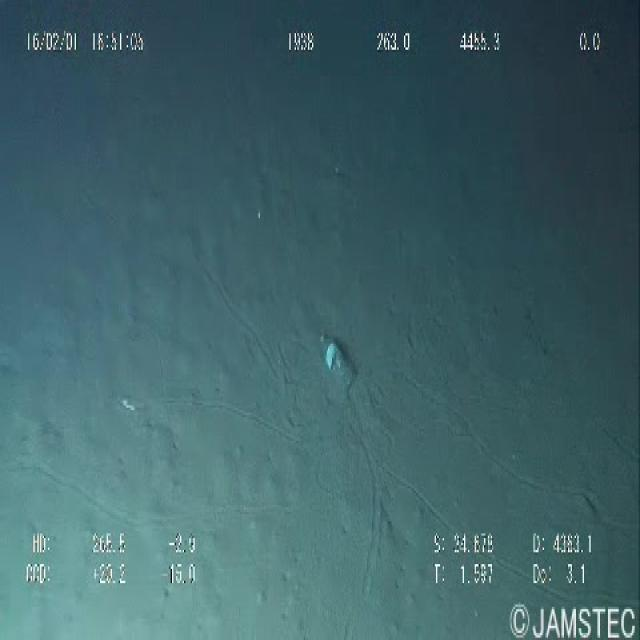plastic: (312, 320, 363, 403)
